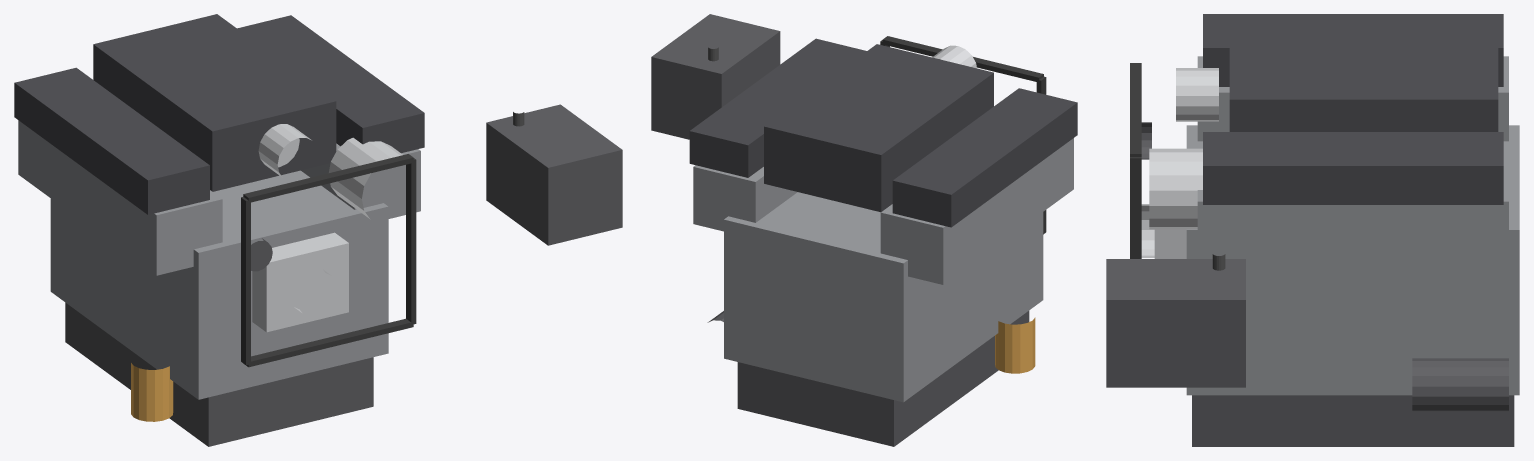
File: gm_ls_gen4.glb
3 views of the same model, side by side, from view 1: azimuth 30°, elevation 25°; view 2: azimuth 150°, elevation 25°; view 3: azimuth 270°, elevation 25° (orthographic). The views are drawn at different scales.
Visible parts, largest first — view 1: Engine_Block, Intake_Manifold_Mesh, Valve_Cover_Mesh, Battery, Oil_Pan_Mesh, Cylinder_Head_Left, Water_Pump_Mesh, Serpentine_Belt_Mesh, Cylinder_Head_Right, Alternator_Mesh, Oil_Filter_Mesh, Throttle_Body_Mesh; view 2: Engine_Block, Intake_Manifold_Mesh, Valve_Cover_Mesh, Oil_Pan_Mesh, Battery, Cylinder_Head_Left, Cylinder_Head_Right, Oil_Filter_Mesh, Serpentine_Belt_Mesh, Throttle_Body_Mesh; view 3: Engine_Block, Valve_Cover_Mesh, Intake_Manifold_Mesh, Cylinder_Head_Right, Battery, Oil_Pan_Mesh, Starter_Motor_Mesh, Alternator_Mesh, Serpentine_Belt_Mesh, Throttle_Body_Mesh, Cylinder_Head_Left, Water_Pump_Mesh.
Boxes of the visible parts, x1,y1,x2,y2 form: Engine_Block: (50, 170, 388, 399); Intake_Manifold_Mesh: (93, 14, 336, 191); Valve_Cover_Mesh: (14, 15, 424, 214); Battery: (486, 104, 622, 245); Oil_Pan_Mesh: (65, 302, 373, 446); Cylinder_Head_Left: (18, 120, 222, 275); Water_Pump_Mesh: (252, 232, 348, 332); Serpentine_Belt_Mesh: (241, 154, 416, 367); Cylinder_Head_Right: (301, 143, 420, 218); Alternator_Mesh: (329, 137, 402, 219); Oil_Filter_Mesh: (131, 363, 173, 421); Throttle_Body_Mesh: (258, 124, 311, 177); Engine_Block: (724, 192, 1043, 402); Intake_Manifold_Mesh: (764, 44, 993, 212); Valve_Cover_Mesh: (689, 38, 1077, 227); Oil_Pan_Mesh: (737, 310, 1029, 446); Battery: (651, 14, 780, 139); Cylinder_Head_Left: (880, 138, 1073, 284); Cylinder_Head_Right: (693, 165, 797, 231); Oil_Filter_Mesh: (995, 317, 1035, 373); Serpentine_Belt_Mesh: (880, 36, 1046, 234); Throttle_Body_Mesh: (932, 45, 976, 68); Engine_Block: (1186, 125, 1519, 395); Valve_Cover_Mesh: (1203, 14, 1503, 204); Intake_Manifold_Mesh: (1229, 31, 1498, 131); Cylinder_Head_Right: (1197, 165, 1508, 269); Battery: (1106, 259, 1245, 387); Oil_Pan_Mesh: (1192, 395, 1514, 446); Starter_Motor_Mesh: (1412, 358, 1508, 411); Alternator_Mesh: (1149, 148, 1202, 229); Serpentine_Belt_Mesh: (1130, 63, 1141, 258); Throttle_Body_Mesh: (1176, 68, 1218, 121); Cylinder_Head_Left: (1197, 56, 1508, 141); Water_Pump_Mesh: (1141, 204, 1186, 258).
Bounding box in the file's own units: 1.04 × 0.69 × 0.77.
